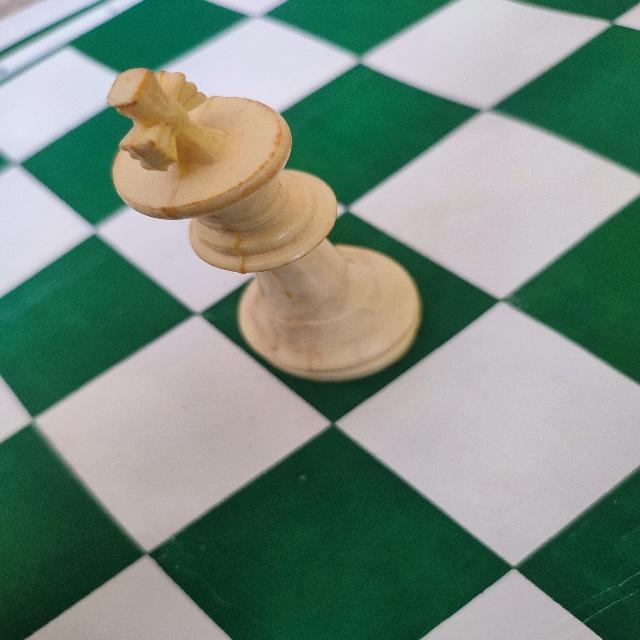King: (94, 58, 430, 385)
